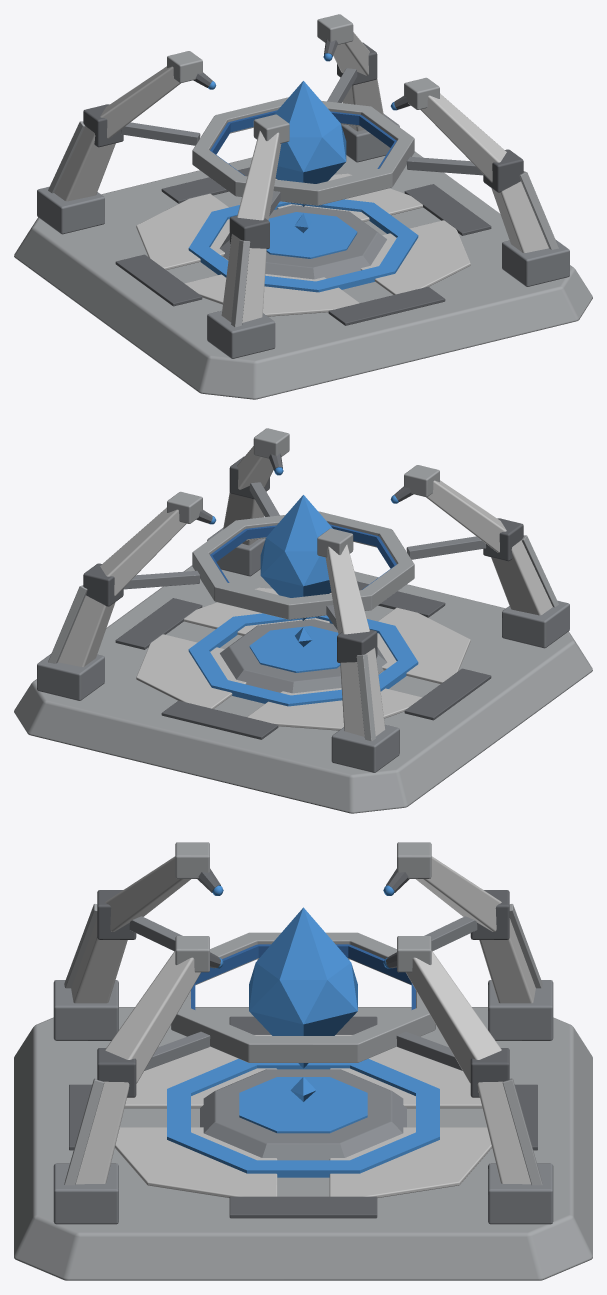
File: lattice_metal_maker.glb
3 views of the same model, one above another, from view 1: azimuth 30°, elevation 25°; view 2: azimuth 150°, elevation 25°; view 3: azimuth 270°, elevation 25° (orthographic). The views are drawn at different scales.
Visible parts, largest first — view 1: Body; view 2: Body; view 3: Body.
Boxes of the visible parts, box(x1,y1,x2,y2) form: Body: box(14, 14, 592, 399); Body: box(14, 428, 592, 813); Body: box(14, 842, 592, 1280).
Size of the model in its own units: 13.33 by 6.7 by 13.33.
